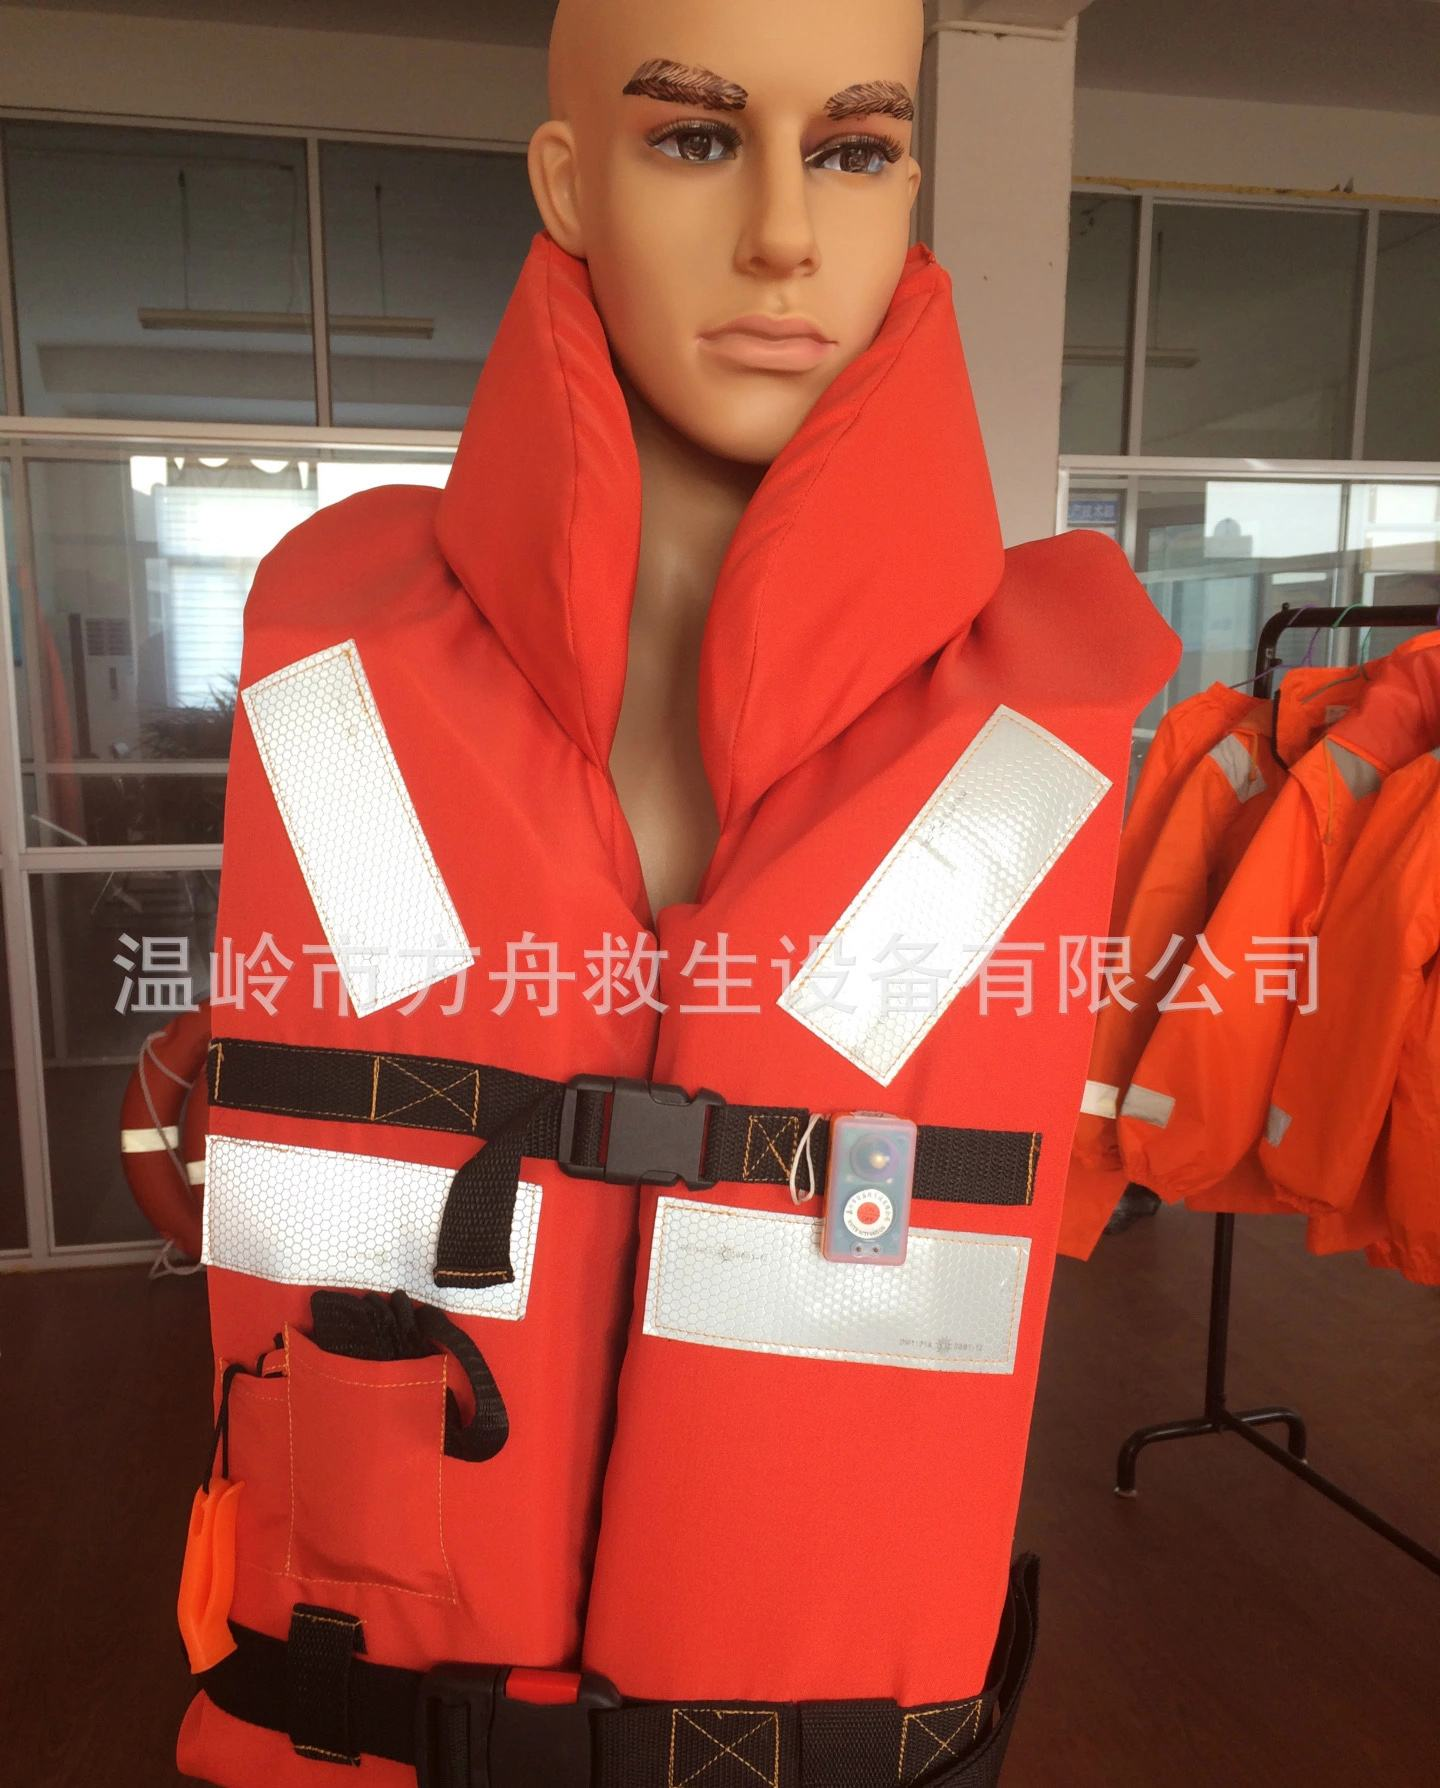reflective_clothes: (229, 231, 1114, 1788)
